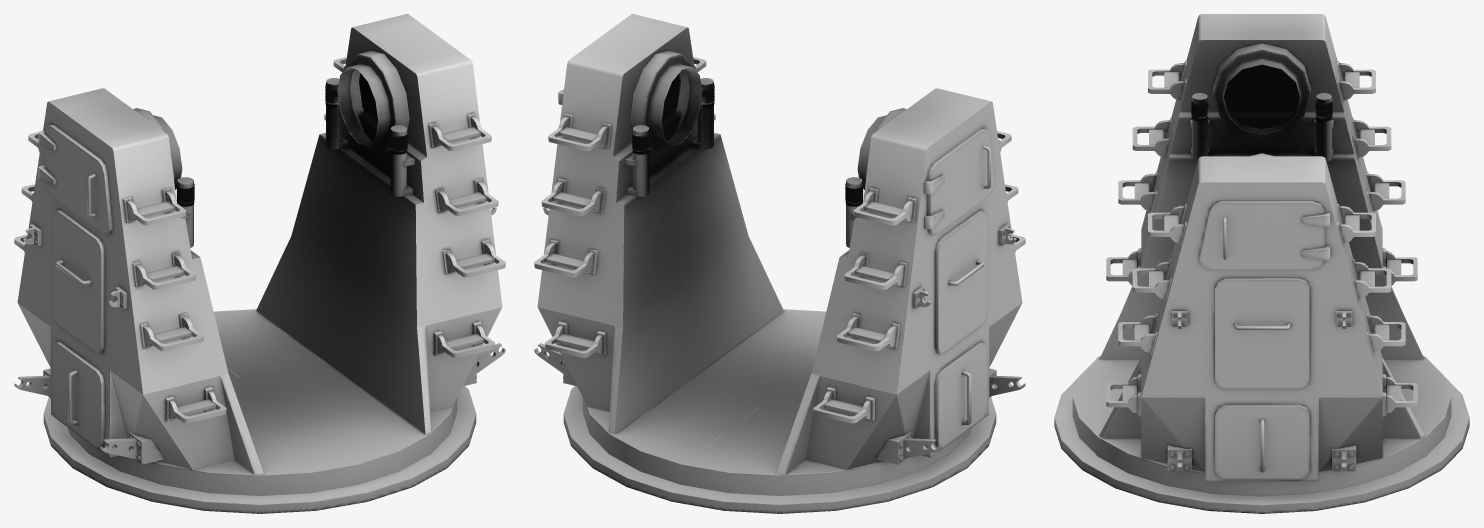
File: ciws_rack.obj
The picture shows the model from 3 angles, left to right: view 1: azimuth 30°, elevation 25°; view 2: azimuth 150°, elevation 25°; view 3: azimuth 270°, elevation 25°; orthographic projection. The views are drawn at different scales.
Visible parts, largest first — view 1: Rotate_Z; view 2: Rotate_Z; view 3: Rotate_Z.
Part boxes in pixels (x1,y1,x2,y2): Rotate_Z: (14, 14, 505, 513); Rotate_Z: (534, 14, 1025, 513); Rotate_Z: (1054, 14, 1469, 513).
Bounding box in the file's own units: 1.47 × 1.19 × 1.37.
2 materials, 2 textured.
